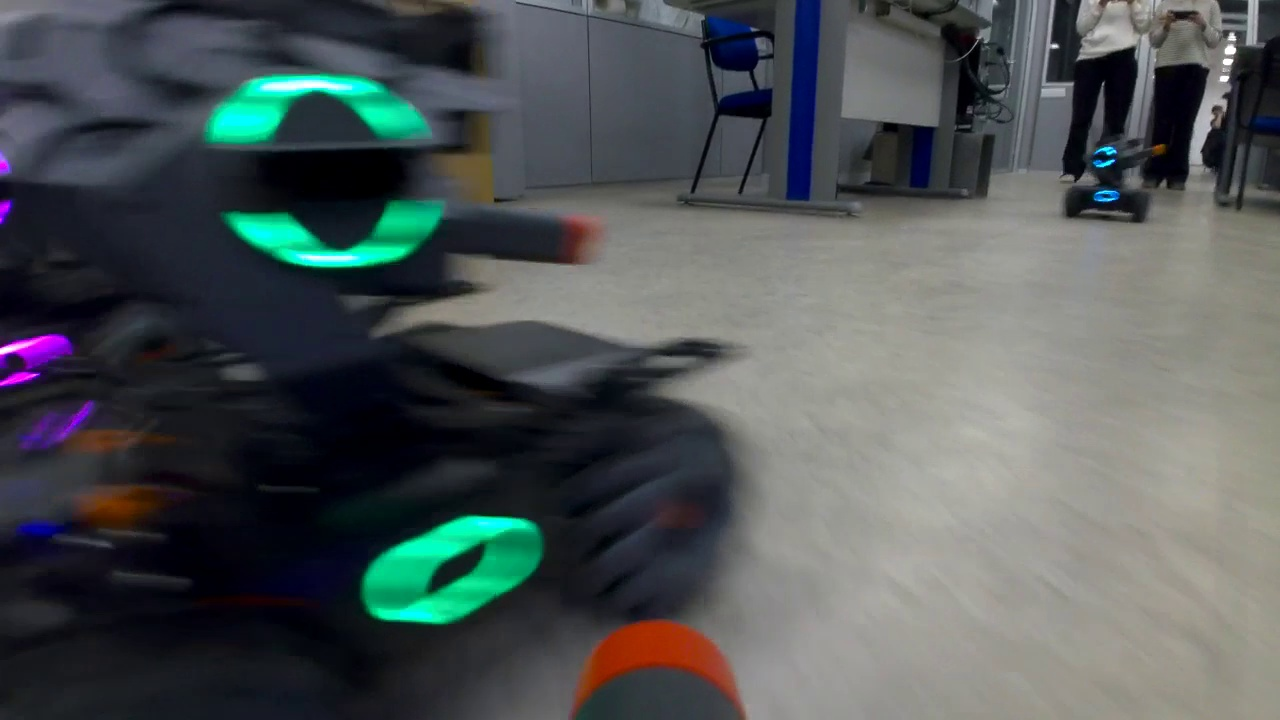robot: (7, 63, 741, 654), (1058, 133, 1176, 226)
